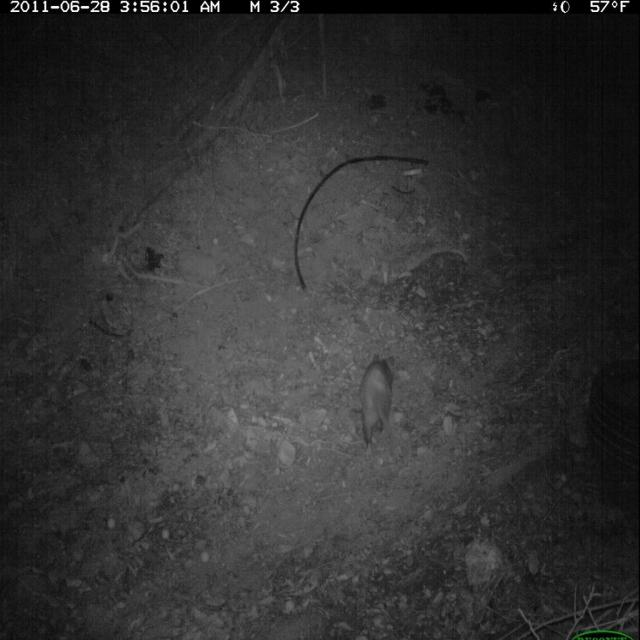opossum: (350, 335, 404, 467)
